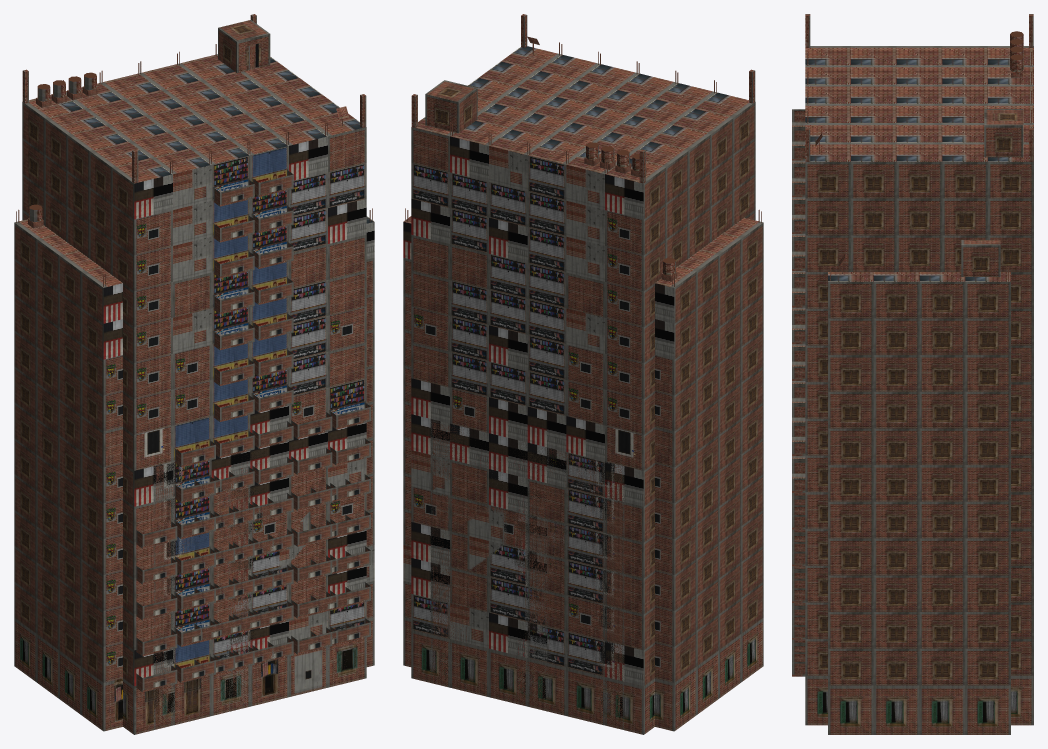
3 views of the same model, side by side, from view 1: azimuth 30°, elevation 25°; view 2: azimuth 150°, elevation 25°; view 3: azimuth 270°, elevation 25° (orthographic). The views are drawn at different scales.
Visible parts, largest first — view 1: Brick_6x5_f14_v1, Brick_7x4_f11_v0, Brick_6x5_f6_v0, Brick_5x5_f6_v1, Brick_6x5_f7_v0, Brick_4x5_f7_v1, Brick_4x5_f6_v0, Brick_6x5_f5_v1, Brick_4x5_f6_v1, Brick_5x5_f5_v1; view 2: Brick_6x5_f14_v1, Brick_6x5_f6_v0, Brick_7x4_f11_v0, Brick_5x5_f6_v1, Brick_4x5_f7_v1, Brick_6x5_f7_v0; view 3: Brick_7x4_f11_v0, Brick_6x5_f14_v1, Brick_6x5_f6_v0, Brick_6x5_f7_v0, Brick_5x5_f5_v1.
Boxes of the visible parts, <box> form: Brick_6x5_f14_v1: <box>22,14,366,448</box>; Brick_7x4_f11_v0: <box>14,204,374,731</box>; Brick_6x5_f6_v0: <box>123,422,366,734</box>; Brick_5x5_f6_v1: <box>153,454,345,729</box>; Brick_6x5_f7_v0: <box>123,378,370,644</box>; Brick_4x5_f7_v1: <box>173,388,327,669</box>; Brick_4x5_f6_v0: <box>291,448,332,654</box>; Brick_6x5_f5_v1: <box>136,521,177,692</box>; Brick_4x5_f6_v1: <box>252,457,293,661</box>; Brick_5x5_f5_v1: <box>233,479,351,664</box>; Brick_6x5_f14_v1: <box>411,14,755,434</box>; Brick_6x5_f6_v0: <box>411,414,654,734</box>; Brick_7x4_f11_v0: <box>403,208,763,731</box>; Brick_5x5_f6_v1: <box>430,419,624,729</box>; Brick_4x5_f7_v1: <box>450,388,604,461</box>; Brick_6x5_f7_v0: <box>411,378,654,470</box>; Brick_7x4_f11_v0: <box>828,240,1010,734</box>; Brick_6x5_f14_v1: <box>792,14,1033,418</box>; Brick_6x5_f6_v0: <box>805,455,1033,725</box>; Brick_6x5_f7_v0: <box>792,405,1033,676</box>; Brick_5x5_f5_v1: <box>792,493,805,661</box>.
Size of the model in its own units: 24.5 by 50.3 by 18.5.
Materials: 1 (1 with a texture image).
